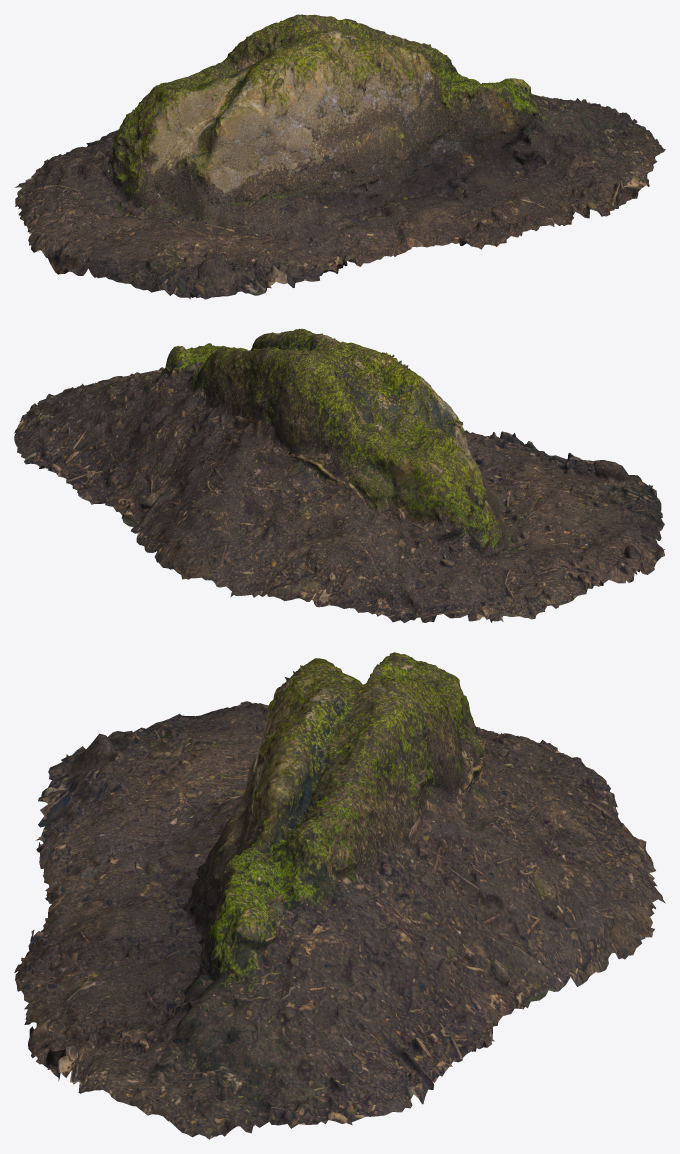
The model's file is PX_Mossy_Rock_05_LOD0.fbx.
The picture shows the model from 3 angles, top to bottom: view 1: azimuth 30°, elevation 25°; view 2: azimuth 150°, elevation 25°; view 3: azimuth 270°, elevation 25°; orthographic projection. The views are drawn at different scales.
Visible parts, largest first — view 1: PX_Mossy_Rock_05_LOD0; view 2: PX_Mossy_Rock_05_LOD0; view 3: PX_Mossy_Rock_05_LOD0.
Part boxes in pixels (x1,y1,x2,y2): PX_Mossy_Rock_05_LOD0: [15, 14, 665, 299]; PX_Mossy_Rock_05_LOD0: [14, 328, 664, 623]; PX_Mossy_Rock_05_LOD0: [14, 652, 665, 1139].
Size of the model in its own units: 104 by 27.97 by 67.2.
